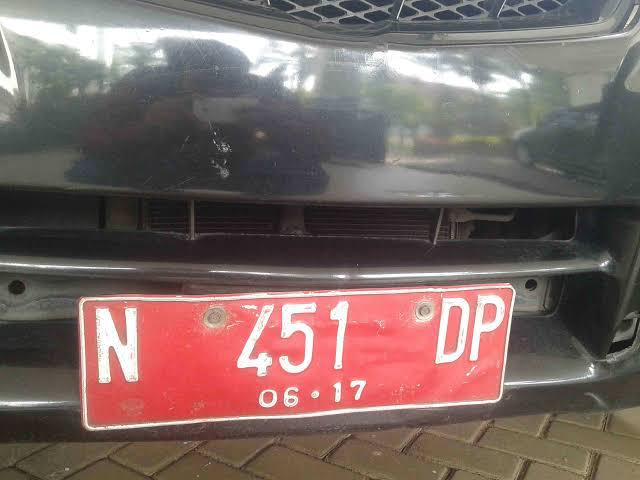plate: (79, 283, 516, 432)
